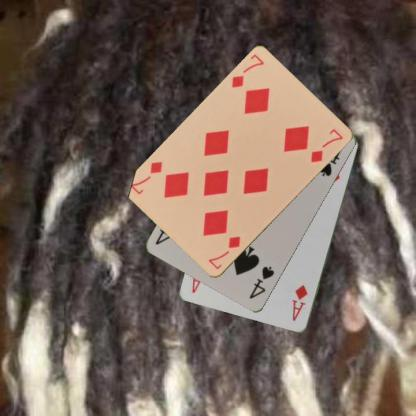4s: (247, 264, 276, 300)
7d: (206, 234, 242, 272), (229, 52, 265, 90)
Ad: (290, 282, 309, 323)
